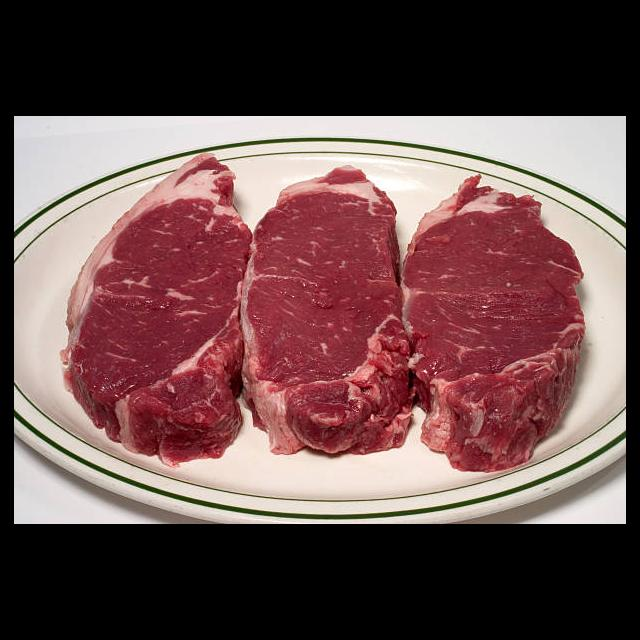beef: (58, 152, 249, 469), (397, 176, 588, 475), (233, 166, 419, 459)
